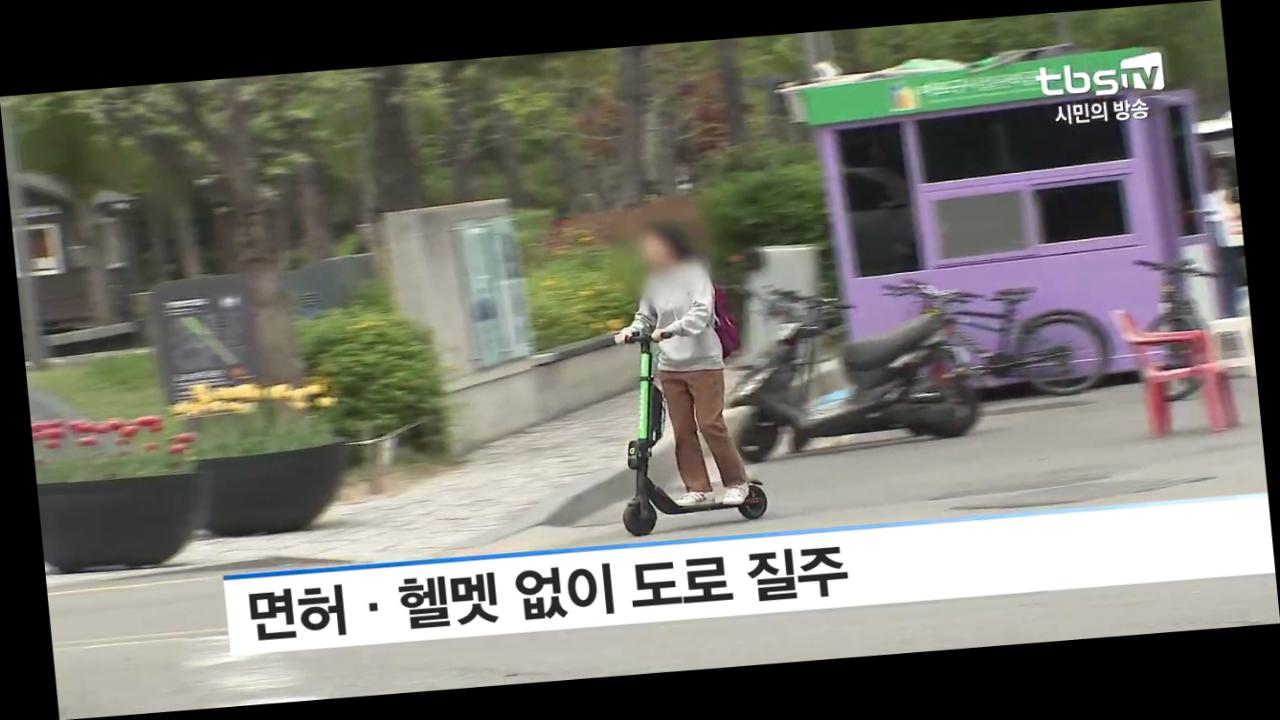nonhelmet: (591, 209, 780, 539)
